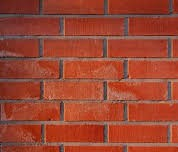brick: (107, 123, 169, 145), (43, 37, 106, 58), (107, 36, 169, 57), (44, 80, 106, 101), (45, 123, 106, 144), (63, 16, 126, 36), (1, 58, 61, 79), (63, 59, 125, 79), (107, 81, 169, 101), (1, 16, 62, 36), (1, 102, 62, 121), (64, 102, 125, 121), (127, 58, 178, 79), (127, 16, 178, 36), (127, 102, 178, 122), (107, 1, 170, 15), (1, 123, 43, 143), (1, 38, 40, 59), (42, 1, 104, 14), (1, 80, 43, 99), (1, 1, 41, 16), (1, 144, 60, 151), (63, 145, 126, 151), (127, 145, 178, 151)
